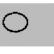no answer: (4, 10, 29, 36)
